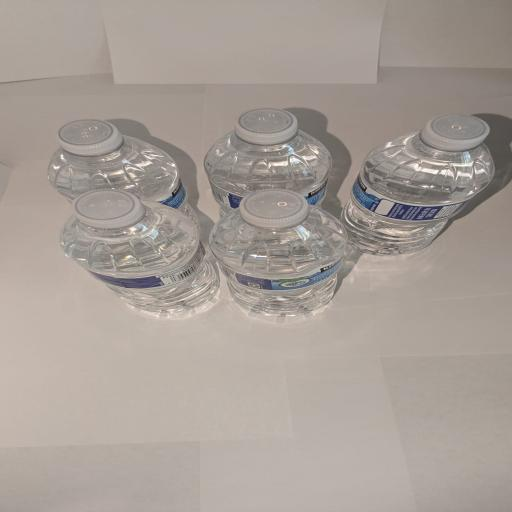waterbottle: (342, 116, 493, 254), (61, 190, 218, 315), (210, 190, 346, 315), (48, 120, 198, 223), (205, 109, 331, 215)
